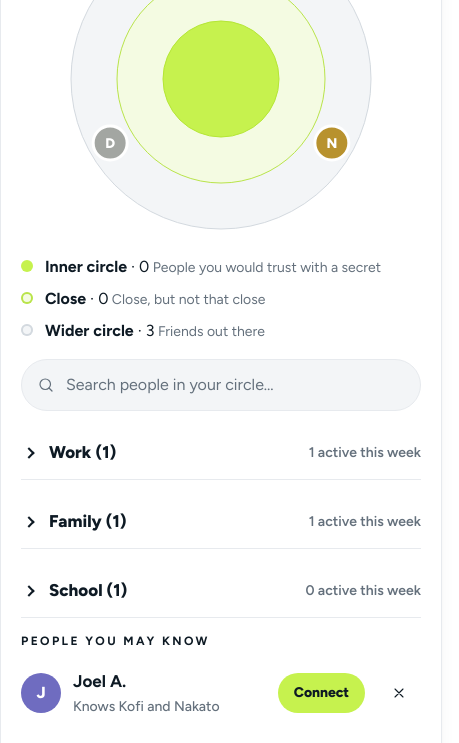
Test: the circle › finds a friend by name
The width and height of the screenshot is (459, 743).
(page scrolled)
In the search field labelled "Search people in your circle": point(221, 384) [21,358,421,410], type "nak"
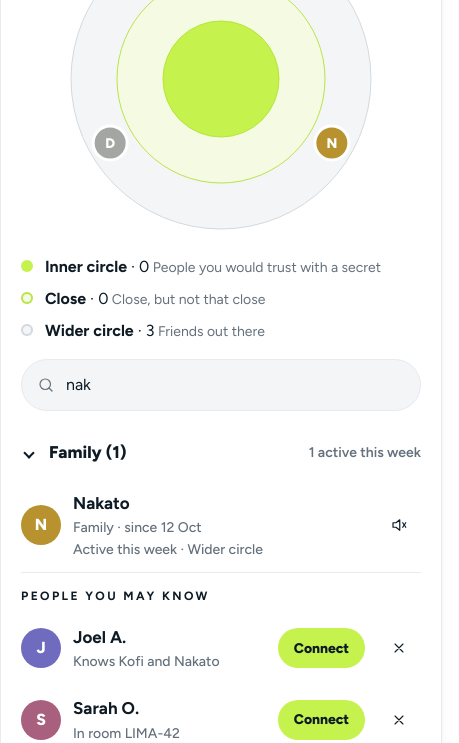
Result: the button "Nakato" is shown at [73,490,365,560]
